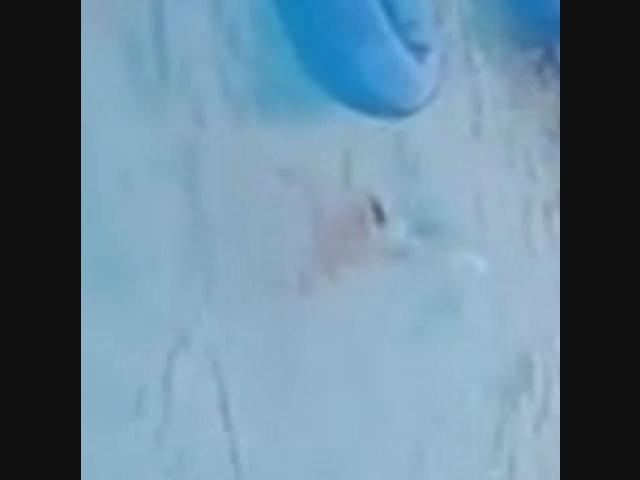drowning: (272, 162, 426, 304)
